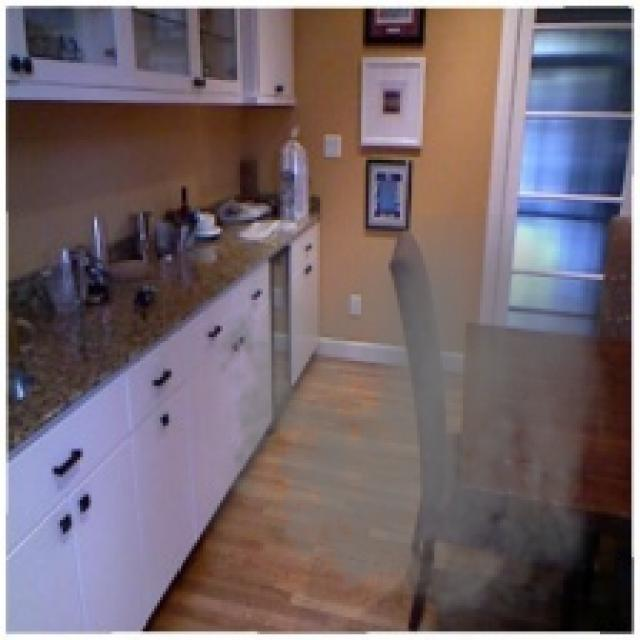smoke: (203, 214, 614, 637)
